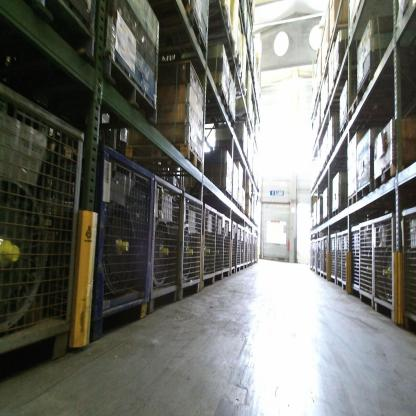pallet: (28, 3, 100, 68), (102, 47, 161, 122), (152, 11, 210, 60), (117, 143, 204, 175), (347, 95, 414, 129), (355, 62, 414, 100), (370, 160, 408, 194), (337, 119, 391, 137), (185, 184, 231, 205), (200, 106, 238, 130), (206, 1, 231, 36), (209, 36, 237, 61), (206, 84, 230, 112), (334, 61, 359, 83), (328, 82, 352, 102), (327, 145, 353, 162), (356, 181, 373, 205), (323, 157, 346, 171), (347, 190, 358, 211), (332, 207, 344, 219), (230, 194, 238, 209), (235, 202, 242, 214), (323, 214, 329, 226), (242, 208, 246, 216)
stillage: (1, 71, 95, 382), (78, 133, 157, 333), (148, 169, 182, 316), (373, 205, 401, 322), (179, 176, 204, 301), (399, 205, 416, 335), (200, 193, 216, 295), (360, 215, 374, 310), (214, 206, 225, 283), (352, 220, 361, 299), (222, 211, 232, 282), (342, 226, 351, 294), (230, 216, 237, 276), (336, 230, 343, 289), (235, 220, 242, 274), (330, 232, 337, 283), (324, 235, 330, 279), (240, 224, 245, 274), (316, 237, 322, 276), (320, 237, 325, 278), (314, 239, 319, 274), (251, 229, 255, 267), (245, 228, 248, 270), (247, 230, 250, 270), (312, 239, 315, 274), (310, 240, 313, 269), (250, 229, 252, 267)
